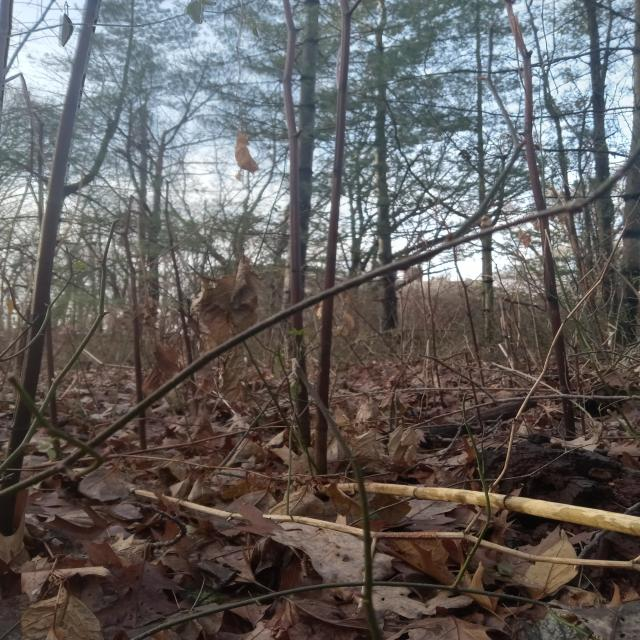knotweed-stems: (1, 1, 102, 540), (130, 487, 638, 572), (502, 1, 578, 438), (326, 479, 638, 537), (283, 100, 330, 474)
